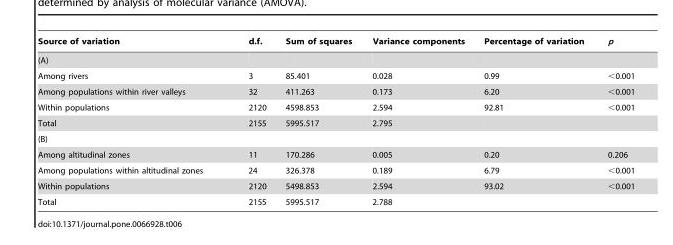table: (36, 36, 634, 206)
table column: (36, 36, 224, 206), (473, 36, 595, 206), (361, 36, 473, 206), (275, 36, 361, 206), (224, 36, 275, 206), (595, 36, 634, 206)
table column header: (36, 36, 634, 50)
table projected row header: (36, 50, 634, 67), (36, 130, 634, 146)
table row: (36, 50, 634, 67), (36, 67, 634, 83), (36, 83, 634, 99), (36, 99, 634, 115), (36, 130, 634, 146), (36, 146, 634, 162), (36, 177, 634, 193), (36, 115, 634, 130), (36, 162, 634, 177), (36, 36, 634, 50), (36, 193, 634, 206)
